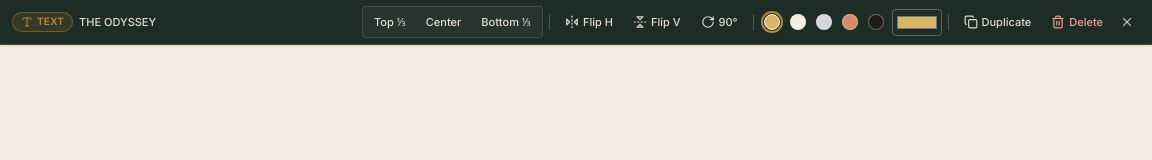
Test: CanvasSelectionBar › keeps exactly one roving tab stop on mount, when Unpin mounts, and when Unpin unmounts
Click the button with test id "selection-align-center". click: [444, 22]
box: [417,9,470,35]
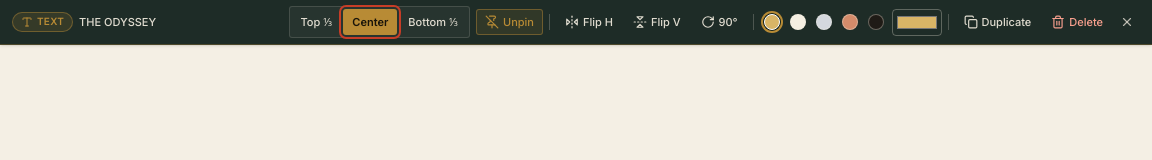
Expected: the button with test id "selection-bar-unpin-btn" is shown
Click the button "Unpin". click: [510, 22]
box: [476,9,543,35]
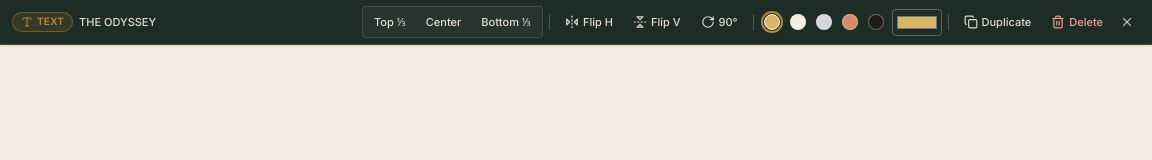
Expected: the button with test id "selection-bar-unpin-btn" is gone
